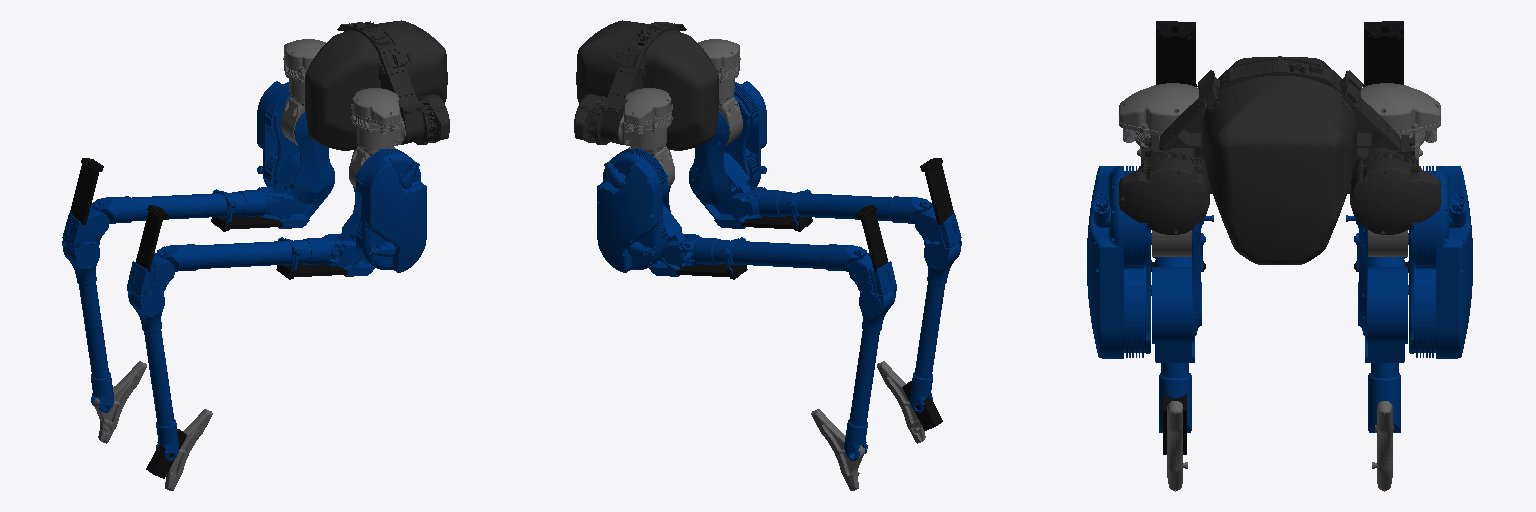
--- Render facts (derived) ---
The picture shows the robot from 3 angles, left to right: view 1: azimuth 30°, elevation 25°; view 2: azimuth 150°, elevation 25°; view 3: azimuth 270°, elevation 25°; orthographic projection.
Robot: cassie — 23 links, 22 joints (16 revolute, 6 fixed); root link pelvis; default pose: joints at zero except 4 at the middle of their limits (knee_left = -1.75, knee_right = -1.75, ankle_joint_left = 1.9, ankle_joint_right = 1.9).
Links seen in each view (by area): view 1: pelvis, thigh_right, shin_right, thigh_left, shin_left, tarsus_left, tarsus_right, yaw_right, toe_right, yaw_left, toe_left, knee_left (+6 smaller); view 2: pelvis, thigh_left, shin_left, thigh_right, shin_right, tarsus_left, tarsus_right, yaw_left, toe_right, yaw_right, knee_right, toe_left (+6 smaller); view 3: pelvis, thigh_left, thigh_right, knee_left, knee_right, yaw_right, yaw_left, heel_spring_left, heel_spring_right, toe_right, tarsus_left, toe_left (+5 smaller).
Link boxes in pixels (box(x1,y1,x2,y2)): pelvis: box(305, 20, 449, 150); thigh_right: box(353, 149, 426, 272); shin_right: box(151, 234, 360, 274); thigh_left: box(257, 81, 334, 203); shin_left: box(89, 187, 296, 225); tarsus_left: box(62, 205, 113, 412); tarsus_right: box(127, 253, 178, 460); yaw_right: box(351, 88, 405, 148); toe_right: box(146, 409, 212, 490); yaw_left: box(283, 39, 325, 99); toe_left: box(93, 361, 146, 443); knee_left: box(272, 152, 334, 228); pelvis: box(574, 20, 718, 150); thigh_left: box(597, 149, 670, 272); shin_left: box(663, 234, 872, 274); thigh_right: box(689, 81, 766, 203); shin_right: box(727, 187, 934, 225); tarsus_left: box(844, 253, 896, 460); tarsus_right: box(910, 205, 961, 412); yaw_left: box(618, 88, 672, 148); toe_right: box(877, 361, 942, 443); yaw_right: box(698, 39, 740, 99); knee_right: box(689, 152, 751, 228); toe_left: box(811, 409, 865, 490); pelvis: box(1119, 56, 1440, 264); thigh_left: box(1346, 166, 1472, 358); thigh_right: box(1087, 166, 1213, 358); knee_left: box(1365, 267, 1407, 362); knee_right: box(1152, 267, 1194, 362); yaw_right: box(1119, 83, 1198, 168); yaw_left: box(1361, 83, 1440, 168); heel_spring_left: box(1363, 21, 1403, 86); heel_spring_right: box(1156, 21, 1196, 86); toe_right: box(1163, 392, 1187, 491); tarsus_left: box(1368, 363, 1400, 432); toe_left: box(1372, 401, 1393, 491).
Bounding box of the posed robot: 0.7712 × 0.4825 × 0.8448 m (x, y, z).
19 mesh visuals loaded from 17 distinct referenced files (17 OBJ).

robot.urdf — cassie:
<robot name="cassie">

  <link name="pelvis">
    <inertial>
      <origin
        xyz=".05066 0.000346 .02841"
        rpy="0 0 0" />
      <mass value="10.33" />
      <inertia
        ixx=".094158"
        ixy=".0001685"
        ixz=".015026"
        iyy=".084066"
        iyz=".0005156"
        izz=".112770" />
    </inertial>
    <visual>
      <origin
        xyz="0 0 0"
        rpy="0 0 0" />
      <geometry>
        <mesh filename="meshes/pelvis.obj" />
      </geometry>
      <material name="">
        <color
          rgba="0.2 0.2 0.2 1.0" />
      </material>
    </visual>
    <!--
    <visual name="pelvis_collision">
      <geometry>
        <sphere radius="0.2"/>
      </geometry>
      <origin xyz="0.05 0 0" rpy="0 0 0" />
      <material name="">
        <color rgba="0.1 0.1 0.1 1.0" />
      </material>
    </visual>
    -->

    <collision>
      <geometry>
        <sphere radius="0.2"/>
      </geometry>
      <origin xyz="0.05 0 0" rpy="0 0 0" />
    </collision>
  </link>

  <link name="yaw_left">
    <inertial>
      <origin
        xyz=".0257 0.0001 .0179"
        rpy="0 -1.570796 0" />
      <mass value="1.82" />
      <inertia
        ixx=".002722"
        ixy=".000000703"
        ixz=".00000153"
        iyy=".005586"
        iyz=".00000261"
        izz=".004638" />
    </inertial>
    <visual>
      <origin
        xyz="0 0 -0.07"
        rpy="0 -1.570796 0" />
      <geometry>
        <mesh filename="meshes/agility/left_yaw.obj" />
      </geometry>
      <material name="">
        <color rgba="0.4 0.4 0.4 1" />
      </material>
    </visual>
  </link>

  <link name="yaw_right">
    <inertial>
      <origin
        xyz=".0257 -0.0001 .0179"
        rpy="0 -1.570796 0" />
      <mass value="1.82" />
      <inertia
        ixx=".002722"
        ixy="-.000000703"
        ixz=".00000153"
        iyy=".005586"
        iyz="-.00000261"
        izz=".004638" />
    </inertial>
    <visual>
      <origin
        xyz="0 0 -0.07"
        rpy="0 -1.570796 0" />
      <geometry>
        <mesh filename="meshes/agility/right_yaw.obj" />
      </geometry>
      <material name="">
        <color rgba="0.4 0.4 0.4 1" />
      </material>
    </visual>
  </link>

  <link name="hip_left">
    <inertial>
      <origin
        xyz="-.05572 0 0.00001"
        rpy="-1.570796 1.570796 0" />
      <mass value="1.171" />
      <inertia
        ixx=".000842"
        ixy=".0000002462"
        ixz="-.0000006251"
        iyy=".006076"
        iyz="-.00000004"
        izz=".006436" />
    </inertial>
    <visual>
      <origin
        xyz="0 0 -0.09"
        rpy="-1.570796 1.570796 0" />
      <geometry>
        <mesh filename="meshes/agility/left_hip.obj" />
      </geometry>
      <material name="">
        <color rgba="0.4 0.4 0.4 1" />
      </material>
    </visual>
  </link>

  <link name="hip_right">
    <inertial>
      <origin
        xyz="-.05572 0 -0.00001"
        rpy="-1.570796 1.570796 0" />
      <mass value="1.171" />
      <inertia
        ixx=".000842"
        ixy=".0000002462"
        ixz=".0000006251"
        iyy=".006076"
        iyz=".00000004"
        izz=".006436" />
    </inertial>
    <visual>
      <origin
        xyz="0 0 -0.09"
        rpy="-1.570796 1.570796 0" />
      <geometry>
        <mesh filename="meshes/agility/right_hip.obj" />
      </geometry>
      <material name="">
        <color rgba="0.4 0.4 0.4 1" />
      </material>
    </visual>
  </link>

  <link name="thigh_left">
    <inertial>
      <origin
        xyz="0.05946 0.00005 -.03581"
        rpy="0 0 0" />
      <mass value="5.52" />
      <inertia
        ixx=".017969"
        ixy=".0002836"
        ixz="-.011685"
        iyy=".056284"
        iyz="-.00001926"
        izz=".049756" />
    </inertial>
    <visual>
      <origin
        xyz="0 0 0"
        rpy="0 0 0" />
      <geometry>
        <mesh filename="meshes/agility/left_thigh.obj" />
      </geometry>
      <material name="">
        <color rgba="0.024 0.24 0.5 1.0" />
      </material>
    </visual>

    <!--
    <visual name="thigh_left_collision">
      <origin xyz="0.04 0.0 -0.05" rpy="0 0 0"/>
      <geometry>
        <box size="0.15 0.1 0.02"/>
      </geometry>
      <material name="">
        <color rgba="0.1 0.1 0.1 1.0"/>
      </material>
    </visual>

    <collision>
      <origin xyz="0.04 0 -0.05" rpy="0 0 0"/>
      <geometry>
        <box size="0.15 0.1 0.02"/>
      </geometry>
    </collision>
    -->

  </link>

  <link name="thigh_right">
    <inertial>
      <origin
        xyz="0.05946 0.00005 .03581"
        rpy="0 0 0" />
      <mass value="5.52" />
      <inertia
        ixx=".017969"
        ixy=".0002836"
        ixz=".011685"
        iyy=".056284"
        iyz=".00001926"
        izz=".049756" />
    </inertial>
    <visual>
      <origin
        xyz="0 0 0"
        rpy="0 0 0" />
      <geometry>
        <mesh filename="meshes/agility/right_thigh.obj" />
      </geometry>
      <material name="">
        <color rgba="0.024 0.24 0.5 1.0" />
      </material>
    </visual>

    <!-- Actually adding thigh collision seems to screw up something wrt the yaw?
    <visual name="thigh_right_collision">
      <origin xyz="0.04 0.0 0.05" rpy="0 0 0"/>
      <geometry>
        <box size="0.10 0.1 0.02"/>
      </geometry>
      <material name="">
        <color rgba="0.1 0.1 0.1 1.0"/>
      </material>
    </visual>

    <collision>
      <origin xyz="0.04 0 0.05" rpy="0 0 0"/>
      <geometry>
        <box size="0.10 0.1 0.02"/>
      </geometry>
    </collision>
    -->

  </link>

  <link name="knee_left">
    <inertial>
      <origin
        xyz="0.023 0.03207 -0.002181"
        rpy="0 0 0" />
      <mass value="0.7578" />
      <inertia
        ixx=".002159"
        ixy=".0009564"
        ixz=".000002837"
        iyy=".001438"
        iyz=".000000739"
        izz=".003344" />
    </inertial>
    <visual>
      <origin
        xyz="0 0 0"
        rpy="0 0 0" />
      <geometry>
        <mesh filename="meshes/knee-output.obj" />
      </geometry>
      <material name="">
        <color rgba="0.024 0.24 0.5 1.0" />
      </material>
    </visual>
  </link>

  <link name="knee_right">
    <inertial>
      <origin
        xyz="0.023 0.03207 0.002181"
        rpy="0 0 0" />
      <mass value="0.7578" />
      <inertia
        ixx=".002159"
        ixy=".0009564"
        ixz=".000002837"
        iyy=".001438"
        iyz="-.000000739"
        izz=".003344" />
    </inertial>
    <visual>
      <origin
        xyz="0 0 0"
        rpy="0 0 0" />
      <geometry>
        <mesh filename="meshes/knee-output-r.obj" />
      </geometry>
      <material name="">
        <color rgba="0.024 0.24 0.5 1.0" />
      </material>
    </visual>
  </link>

  <link name="shin_left">
    <inertial>
      <origin
        xyz=".18338 0.001169 0.0002123"
        rpy="0 0 0" />
      <mass value="0.5771" />
      <inertia
        ixx=".0003602"
        ixy=".0003335"
        ixz="-.0000001941"
        iyy=".034132"
        iyz=".0000002652"
        izz=".034111" />
    </inertial>
    <visual>
      <origin
        xyz="0 0 0"
        rpy="0 0 0" />
      <geometry>
        <mesh filename="meshes/agility/left_shin.obj" />
      </geometry>
      <material name="">
        <color rgba="0.024 0.24 0.5 1.0" />
      </material>
    </visual>

    <!--
    <visual name="shin_left_collision">
      <origin xyz="0.2 0.0 0.0" rpy="0 1.57 0"/>
      <geometry>
        <cylinder radius="0.015" length="0.4"/>
      </geometry>
      <material name="">
        <color rgba="0.1 0.1 0.1 1.0"/>
      </material>
    </visual>
    -->

    <collision>
      <origin xyz="0.2 0.0 0.0" rpy="0 1.57 0"/>
      <geometry>
        <cylinder radius="0.015" length="0.4"/>
      </geometry>
    </collision>

  </link>

  <link name="shin_right">
    <inertial>
      <origin
        xyz=".18338 0.001169 -0.0002123"
        rpy="0 0 0" />
      <mass value="0.5771" />
      <inertia
        ixx=".0003602"
        ixy=".000334"
        ixz=".0000001941"
        iyy=".034132"
        iyz="-.0000002652"
        izz=".034111" />
    </inertial>

    <visual>
      <origin
        xyz="0 0 0"
        rpy="0 0 0" />
      <geometry>
        <mesh filename="meshes/agility/right_shin.obj" />
      </geometry>
      <material name="">
        <color rgba="0.024 0.24 0.5 1.0" />
      </material>
    </visual>

    <!--
    <visual name="shin_right_collision">
      <origin xyz="0.2 0.0 0.0" rpy="0 1.57 0"/>
      <geometry>
        <cylinder radius="0.015" length="0.4"/>
      </geometry>
      <material name="">
        <color rgba="0.1 0.1 0.1 1.0"/>
      </material>
    </visual>
    -->

    <collision>
      <origin xyz="0.2 0.0 0.0" rpy="0 1.57 0"/>
      <geometry>
        <cylinder radius="0.015" length="0.4"/>
      </geometry>
    </collision>

  </link>

  <link name="knee_spring_left">
    <inertial>
      <origin
        xyz=".08364 0.003427 0.0"
        rpy="0 0 0" />
      <mass value="0.1864" />
      <inertia
        ixx=".0000543"
        ixy=".00004601"
        ixz="0.0"
        iyy=".001712"
        iyz="0.0"
        izz=".001669" />
    </inertial>
    <visual>
      <origin
        xyz="0 0 0"
        rpy="0 0 0" />
      <geometry>
        <mesh filename="meshes/knee-spring.obj" />
      </geometry>
      <material name="">
        <color rgba="0.1 0.1 0.1 1" />
      </material>
    </visual>
  </link>

  <link name="knee_spring_right">
    <inertial>
      <origin
        xyz=".08364 0.003427 0.0"
        rpy="0 0 0" />
      <mass value="0.1864" />
      <inertia
        ixx=".0000543"
        ixy=".00004601"
        ixz="0.0"
        iyy=".001712"
        iyz="0.0"
        izz=".001669" />
    </inertial>
    <visual>
      <origin
        xyz="0 0 0"
        rpy="0 0 0" />
      <geometry>
        <mesh filename="meshes/knee-spring.obj" />
      </geometry>
      <material name="">
        <color rgba="0.1 0.1 0.1 1" />
      </material>
    </visual>
  </link>

  <link name="tarsus_left">
    <inertial>
      <origin
        xyz=".11046 -.03058 -.00131"
        rpy="0 0 0" />
      <mass value="0.782" />
      <inertia
        ixx=".001125"
        ixy="-.002878"
        ixz="-.00006329"
        iyy=".023138"
        iyz=".00003615"
        izz=".023947" />
    </inertial>

    <visual>
      <origin
        xyz="0 0 0"
        rpy="0 0 0" />
      <geometry>
        <mesh filename="meshes/tarsus.obj" />
      </geometry>
      <material name="">
        <color rgba="0.024 0.24 0.5 1.0" />
      </material>
    </visual>

    <!--
    <visual name="tarsus_left_collision">
      <origin xyz="0.2 0.0 0.0" rpy="0 1.57 0"/>
      <geometry>
        <cylinder radius="0.015" length="0.4"/>
      </geometry>
      <material name="">
        <color rgba="0.1 0.1 0.1 1.0"/>
      </material>
    </visual>
    -->

    <collision>
      <origin xyz="0.2 0.0 0.0" rpy="0 1.57 0"/>
      <geometry>
        <cylinder radius="0.015" length="0.4"/>
      </geometry>
    </collision>
  </link>

  <link name="tarsus_right">
    <inertial>
      <origin
        xyz=".11046 -.03058 -.00131"
        rpy="0 0 0" />
      <mass value="0.782" />
      <inertia
        ixx=".001125"
        ixy="-.002878"
        ixz=".00006329"
        iyy=".023138"
        iyz="-.00003615"
        izz=".023947" />
    </inertial>

    <visual>
      <origin
        xyz="0 0 0"
        rpy="0 0 0" />
      <geometry>
        <mesh filename="meshes/tarsus-r.obj" />
      </geometry>
      <material name="">
        <color rgba="0.024 0.24 0.5 1.0" />
      </material>
    </visual>

    <!--
    <visual name="tarsus_right_collision">
      <origin xyz="0.2 0.0 0.0" rpy="0 1.57 0"/>
      <geometry>
        <cylinder radius="0.015" length="0.4"/>
      </geometry>
      <material name="">
        <color rgba="0.1 0.1 0.1 1.0"/>
      </material>
    </visual>
    -->

    <collision>
      <origin xyz="0.2 0.0 0.0" rpy="0 1.57 0"/>
      <geometry>
        <cylinder radius="0.015" length="0.4"/>
      </geometry>
    </collision>

  </link>

  <link name="heel_spring_left">
    <inertial>
      <origin
        xyz="0.08097 0.00223 -0.0000385"
        rpy="0 0 0" />
      <mass value="0.1259" />
      <inertia
        ixx=".00003016"
        ixy=".00001528"
        ixz=".000000575"
        iyy=".001049"
        iyz="-.0000000557"
        izz=".001028" />
    </inertial>
    <visual>
      <origin
        xyz="0 0 0"
        rpy="0 0 0" />
      <geometry>
        <mesh filename="meshes/heel-spring.obj" />
      </geometry>
      <material name="">
        <color rgba="0.1 0.1 0.1 1" />
      </material>
    </visual>
  </link>

  <link name="heel_spring_right">
    <inertial>
      <origin
        xyz="0.08097 0.00223 -0.0000385"
        rpy="0 0 0" />
      <mass value="0.1259" />
      <inertia
        ixx=".00003016"
        ixy=".00001528"
        ixz=".000000575"
        iyy=".001049"
        iyz="-.0000000557"
        izz=".001028" />
    </inertial>
    <visual>
      <origin
        xyz="0 0 0"
        rpy="0 0 0" />
      <geometry>
        <mesh filename="meshes/heel-spring.obj" />
      </geometry>
      <material name="">
        <color rgba="0.1 0.1 0.1 1" />
      </material>
    </visual>
  </link>

  <!--
      **************************************************************
      lumped masses for the foot crank and plantar rods-attaching them
      to the foot at the heel location
      **************************************************************
  -->
  <link name="foot_crank_mass_left">
    <inertial>
      <mass value="0.129"/>
    </inertial>
  </link>

  <link name="foot_crank_mass_right">
    <inertial>
      <mass value="0.129"/>
    </inertial>
  </link>

  <link name="plantar_rod_mass_left">
    <inertial>
      <mass value="0.1186"/>
    </inertial>
  </link>

  <link name="plantar_rod_mass_right">
    <inertial>
      <mass value="0.1186"/>
    </inertial>
  </link>

  <link name="toe_left">
    <inertial>
      <origin
        xyz="0.00474 0.02748 -0.00014"
        rpy="0 0 0" />
      <mass value="0.1498" />
      <inertia
        ixx=".000287"
        ixy="-.00009863"
        ixz="-.000001456"
        iyy=".0001713"
        iyz=".0000001716"
        izz=".0004491" />
    </inertial>

    <visual>
      <origin
        xyz="0 0 0"
        rpy="0 0 0" />
      <geometry>
        <mesh filename="meshes/agility/left_foot.obj" />
      </geometry>
      <material name="">
        <color rgba="0.4 0.4 0.4 1" />
      </material>
    </visual>

    <!-- <mesh filename="meshes/toe.obj" /> -->
    <!--
    <visual name="toe_left_collision">
      <geometry>
        <box size="0.1 0.03 0.03"/>
      </geometry>
      <origin xyz="0.0 0.0 0.0" rpy="0.0 0.0 -0.7"/>
      <material>
        <color rgba="0.1 0.1 0.1 1.0"/>
      </material>
    </visual>
    -->

    <collision>
      <geometry>
        <box size="0.1 0.03 0.03"/>
      </geometry>
      <origin xyz="0.0 0.0 0.0" rpy="0.0 0.0 -0.7"/>
    </collision>

    <visual>
      <geometry>
        <sphere radius="0.001"/>
      </geometry>
      <origin xyz="-0.0457 .112 0" rpy="0 0 0"/>
    </visual>
    <collision>
      <geometry>
        <sphere radius="0.0"/>
      </geometry>
      <origin xyz="-0.0457 .112 0" rpy="0 0 0"/>
    </collision>
    <visual>
      <geometry>
        <sphere radius="0.001"/>
      </geometry>
      <origin xyz="0.088 0 0" rpy="0 0 0"/>
    </visual>
    <collision>
      <geometry>
        <sphere radius="0.0"/>
      </geometry>
      <origin xyz="0.088 0 0" rpy="0 0 0"/>
    </collision>
  </link>

  <link name="toe_right">
    <inertial>
      <origin
        xyz="0.00474 0.02748 0.00014"
        rpy="0 0 0" />
      <mass value="0.1498" />
      <inertia
        ixx=".000287"
        ixy="-.00009863"
        ixz=".000001456"
        iyy=".0001713"
        iyz="-.0000001716"
        izz=".0004491" />
    </inertial>

    <visual>
      <origin
        xyz="0 0 0"
        rpy="0 0 0" />
      <geometry>
        <mesh filename="meshes/agility/right_foot.obj" />
      </geometry>
      <material name="">
        <color rgba="0.4 0.4 0.4 1" />
      </material>
    </visual>
    <!-- <mesh filename="meshes/toe-r.obj" /> -->
    <!--
    <visual>
      <geometry>
        <sphere radius="0.001"/>
      </geometry>
      <origin xyz="-0.0457 .112 0" rpy="0 0 0"/>
    </visual>
    -->
    <collision>
      <geometry>
        <sphere radius="0.0"/>
      </geometry>
      <origin xyz="-0.0457 .112 0" rpy="0 0 0"/>
    </collision>
    <visual>
      <geometry>
        <sphere radius="0.001"/>
      </geometry>
      <origin xyz="0.088 0 0" rpy="0 0 0"/>
    </visual>
    <collision>
      <geometry>
        <sphere radius="0.0"/>
      </geometry>
      <origin xyz="0.088 0 0" rpy="0 0 0"/>
    </collision>

    <visual name="toe_right_collision">
      <geometry>
        <box size="0.1 0.03 0.03"/>
      </geometry>
      <origin xyz="0.0 0.0 0.0" rpy="0.0 0.0 -0.7"/>
      <material>
        <color rgba="0.1 0.1 0.1 1.0"/>
      </material>
    </visual>

    <collision>
      <geometry>
        <box size="0.1 0.03 0.03"/>
      </geometry>
      <origin xyz="0.0 0.0 0.0" rpy="0.0 0.0 -0.7"/>
    </collision>
  </link>



  <!-- JOINTS ||| JOINTS ||| JOINTS ||| JOINTS ||| JOINTS |||-->
  <!-- JOINTS ||| JOINTS ||| JOINTS ||| JOINTS ||| JOINTS |||-->
  <!-- JOINTS ||| JOINTS ||| JOINTS ||| JOINTS ||| JOINTS |||-->
  <!-- JOINTS ||| JOINTS ||| JOINTS ||| JOINTS ||| JOINTS |||-->
  <!-- JOINTS ||| JOINTS ||| JOINTS ||| JOINTS ||| JOINTS |||-->
  <!-- JOINTS ||| JOINTS ||| JOINTS ||| JOINTS ||| JOINTS |||-->
  <!-- JOINTS ||| JOINTS ||| JOINTS ||| JOINTS ||| JOINTS |||-->
  <!-- JOINTS ||| JOINTS ||| JOINTS ||| JOINTS ||| JOINTS |||-->
  <!-- JOINTS ||| JOINTS ||| JOINTS ||| JOINTS ||| JOINTS |||-->
  <!-- JOINTS ||| JOINTS ||| JOINTS ||| JOINTS ||| JOINTS |||-->


  <joint name="hip_roll_left" type="revolute">
    <origin xyz=".021 .135 0" rpy="0 1.570796 0" />
    <parent link="pelvis" />
    <child link="yaw_left" />
    <axis xyz="0 0 1" />
    <limit lower="-0.262" upper="0.393" effort="300"/>
    <dynamics damping="1" />
  </joint>

  <joint name="hip_roll_right" type="revolute">
    <origin xyz=".021 -.135 0" rpy="0 1.570796 0" />
    <parent link="pelvis" />
    <child link="yaw_right" />
    <axis xyz="0 0 1" />
    <limit lower="-0.393" upper="0.262" effort="300"/>
    <dynamics damping="1" />
  </joint>


  <joint name="hip_yaw_left" type="revolute">
    <origin xyz="0 0 -0.07" rpy="0 -1.570796 0" />
    <parent link="yaw_left" />
    <child link="hip_left" />
    <axis xyz="0 0 1" />
    <limit lower="-0.393" upper="0.393" effort="300"/>
    <dynamics damping="1" />
  </joint>

  <joint name="hip_yaw_right" type="revolute">
    <origin xyz="0 0 -0.07" rpy="0 -1.570796 0" />
    <parent link="yaw_right" />
    <child link="hip_right" />
    <axis xyz="0 0 1" />
    <limit lower="-0.393" upper="0.393" effort="300"/>
    <dynamics damping="1" />
  </joint>


  <joint name="hip_pitch_left" type="revolute">
    <origin xyz="0 0 -0.09" rpy="1.570796 1.570796 0" />
    <parent link="hip_left" />
    <child link="thigh_left" />
    <axis xyz="0 0 1" />
    <limit lower="-0.873" upper="1.396" effort="300"/>
    <dynamics damping="1" />
  </joint>

  <joint name="hip_pitch_right" type="revolute">
    <origin xyz="0 0 -0.09" rpy="1.570796 1.570796 0" />
    <parent link="hip_right" />
    <child link="thigh_right" />
    <axis xyz="0 0 1" />
    <limit lower="-0.873" upper="1.396" effort="300"/>
    <dynamics damping="1" />
  </joint>

  <joint name="knee_left" type="revolute">
    <origin xyz="0.12 0 0.0045" rpy="0 0 0" />
    <parent link="thigh_left" />
    <child link="knee_left" />
    <axis xyz="0 0 1" />
    <limit lower="-2.862" upper="-0.646" effort="300"/>
    <dynamics damping="1" />
  </joint>

  <joint name="knee_right" type="revolute">
    <origin xyz="0.12 0 -0.0045" rpy="0 0 0" />
    <parent link="thigh_right" />
    <child link="knee_right" />
    <axis xyz="0 0 1" />
    <limit lower="-2.862" upper="-0.646" effort="300"/>
    <dynamics damping="1" />
  </joint>


  <joint name="foot_crank_mass_left" type="fixed">
    <origin xyz=".055 0 .00776"/>
    <parent link="toe_left" />
    <child link="foot_crank_mass_left" />
  </joint>

  <joint name="foot_crank_mass_right" type="fixed">
    <origin xyz=".055 0 -.00776"/>
    <parent link="toe_right" />
    <child link="foot_crank_mass_right" />
  </joint>

  <joint name="plantar_rod_mass_left" type="fixed">
    <origin xyz=".055 0 .00776"/>
    <parent link="toe_left" />
    <child link="plantar_rod_mass_left" />
  </joint>

  <joint name="plantar_rod_mass_right" type="fixed">
    <origin xyz=".055 0 -.00776"/>
    <parent link="toe_right" />
    <child link="plantar_rod_mass_right" />
  </joint>

  <joint name="knee_joint_left" type="revolute">
    <origin xyz="0.06068 0.04741 0" rpy="0 0 0" />
    <parent link="knee_left" />
    <child link="shin_left" />
    <axis xyz="0 0 1" />
    <limit lower="-.35" upper="0.35"/>
    <dynamics damping=".1" />
  </joint>

  <joint name="knee_joint_right" type="revolute">
    <origin xyz="0.06068 0.04741 0" rpy="0 0 0" />
    <parent link="knee_right" />
    <child link="shin_right" />
    <axis xyz="0 0 1" />
    <limit lower="-.35" upper="0.35"/>
    <dynamics damping=".1" />
  </joint>


  <joint name="knee_spring_left_fixed" type="fixed">
    <origin xyz="0.06068 0.08241 0" rpy="0 0 0" />
    <parent link="knee_left" />
    <child link="knee_spring_left" />
  </joint>

  <joint name="knee_spring_right_fixed" type="fixed">
    <origin xyz="0.06068 0.08241 0" rpy="0 0 0" />
    <parent link="knee_right" />
    <child link="knee_spring_right" />
  </joint>


  <joint name="ankle_joint_left" type="revolute">
    <origin xyz="0.43476 0.02 0" rpy="0 0 0" />
    <parent link="shin_left" />
    <child link="tarsus_left" />
    <axis xyz="0 0 1" />
    <limit lower=".8" upper="3"/>
    <dynamics damping="0.1" />
  </joint>

  <joint name="ankle_joint_right" type="revolute">
    <origin xyz="0.43476 0.02 0" rpy="0 0 0" />
    <parent link="shin_right" />
    <child link="tarsus_right" />
    <axis xyz="0 0 1" />
    <limit lower=".8" upper="3"/>
    <dynamics damping="0.1" />
  </joint>

  <!-- rpy="-0.0689 -0.0370 2.7208"-->
  <joint name="ankle_spring_joint_left" type="revolute">
    <origin xyz="-.01269 -.03059 .00092" rpy="0.0780 0.00549 2.7192" />
    <parent link="tarsus_left" />
    <child link="heel_spring_left" />
    <limit lower="-1" upper="0.5"/>
    <axis xyz="0 0 1" />
    <dynamics damping="10" /> <!-- made up value -->
  </joint>

  <!-- rpy="0.0734 0.0269 2.7201"-->
  <joint name="ankle_spring_joint_right" type="revolute">
    <origin xyz="-.01269 -.03059 -.00092" rpy="-0.0780 -0.00549 2.7192" />
    <parent link="tarsus_right" />
    <child link="heel_spring_right" />
    <limit lower="-1" upper="0.5"/>
    <axis xyz="0 0 1" />
    <dynamics damping="10" /> <!-- made up value -->
  </joint>


  <joint name="toe_left" type="revolute">
    <origin xyz="0.408 -0.040 0" rpy="0 0 0" />
    <parent link="tarsus_left" />
    <child link="toe_left" />
    <axis xyz="0 0 1" />
    <limit lower="-2.8" upper="0" effort="300"/>
    <dynamics damping="1" />
  </joint>

  <joint name="toe_right" type="revolute">
    <origin xyz="0.408 -0.040 0" rpy="0 0 0" />
    <parent link="tarsus_right" />
    <child link="toe_right" />
    <axis xyz="0 0 1" />
    <limit lower="-2.8" upper="0" effort="300"/>
    <dynamics damping="1" />
  </joint>

  <!-- MOTORS ||| MOTORS ||| MOTORS ||| MOTORS ||| MOTORS |||-->
  <!-- MOTORS ||| MOTORS ||| MOTORS ||| MOTORS ||| MOTORS |||-->
  <!-- MOTORS ||| MOTORS ||| MOTORS ||| MOTORS ||| MOTORS |||-->
  <!-- MOTORS ||| MOTORS ||| MOTORS ||| MOTORS ||| MOTORS |||-->
  <!-- MOTORS ||| MOTORS ||| MOTORS ||| MOTORS ||| MOTORS |||-->
  <!-- MOTORS ||| MOTORS ||| MOTORS ||| MOTORS ||| MOTORS |||-->
  <!-- MOTORS ||| MOTORS ||| MOTORS ||| MOTORS ||| MOTORS |||-->
  <!-- MOTORS ||| MOTORS ||| MOTORS ||| MOTORS ||| MOTORS |||-->
  <!-- MOTORS ||| MOTORS ||| MOTORS ||| MOTORS ||| MOTORS |||-->
  <!-- MOTORS ||| MOTORS ||| MOTORS ||| MOTORS ||| MOTORS |||-->

  <transmission name="hip_roll_left_trans" type="transmission_interface/SimpleTransmission">
    <actuator name="hip_roll_left_motor"/>
    <joint name="hip_roll_left"/>
    <mechanicalReduction>1</mechanicalReduction>
  </transmission>

  <transmission name="hip_roll_right_trans" type="transmission_interface/SimpleTransmission">
    <actuator name="hip_roll_right_motor"/>
    <joint name="hip_roll_right"/>
    <mechanicalReduction>1</mechanicalReduction>
  </transmission>

  <transmission name="hip_yaw_left_trans" type="transmission_interface/SimpleTransmission">
    <actuator name="hip_yaw_left_motor"/>
    <joint name="hip_yaw_left"/>
    <mechanicalReduction>1</mechanicalReduction>
  </transmission>

  <transmission name="hip_yaw_right_trans" type="transmission_interface/SimpleTransmission">
    <actuator name="hip_yaw_right_motor"/>
    <joint name="hip_yaw_right"/>
    <mechanicalReduction>1</mechanicalReduction>
  </transmission>

  <transmission name="hip_pitch_left_trans" type="transmission_interface/SimpleTransmission">
    <actuator name="hip_pitch_left_motor"/>
    <joint name="hip_pitch_left"/>
    <mechanicalReduction>1</mechanicalReduction>
  </transmission>

  <transmission name="hip_pitch_right_trans" type="transmission_interface/SimpleTransmission">
    <actuator name="hip_pitch_right_motor"/>
    <joint name="hip_pitch_right"/>
    <mechanicalReduction>1</mechanicalReduction>
  </transmission>

  <transmission name="knee_left_trans" type="transmission_interface/SimpleTransmission">
    <actuator name="knee_left_motor"/>
    <joint name="knee_left"/>
    <mechanicalReduction>1</mechanicalReduction>
  </transmission>

  <transmission name="knee_right_trans" type="transmission_interface/SimpleTransmission">
    <actuator name="knee_right_motor"/>
    <joint name="knee_right"/>
    <mechanicalReduction>1</mechanicalReduction>
  </transmission>

  <transmission name="toe_left_trans" type="transmission_interface/SimpleTransmission">
    <actuator name="toe_left_motor"/>
    <joint name="toe_left"/>
    <mechanicalReduction>1</mechanicalReduction>
  </transmission>

  <transmission name="toe_right_trans" type="transmission_interface/SimpleTransmission">
    <actuator name="toe_right_motor"/>
    <joint name="toe_right"/>
    <mechanicalReduction>1</mechanicalReduction>
  </transmission>

  <!-- SPRINGS ||| SPRINGS ||| SPRINGS ||| SPRINGS ||| SPRINGS |||-->
  <!-- SPRINGS ||| SPRINGS ||| SPRINGS ||| SPRINGS ||| SPRINGS |||-->
  <!-- SPRINGS ||| SPRINGS ||| SPRINGS ||| SPRINGS ||| SPRINGS |||-->
  <!-- SPRINGS ||| SPRINGS ||| SPRINGS ||| SPRINGS ||| SPRINGS |||-->
  <!-- SPRINGS ||| SPRINGS ||| SPRINGS ||| SPRINGS ||| SPRINGS |||-->
  <!-- SPRINGS ||| SPRINGS ||| SPRINGS ||| SPRINGS ||| SPRINGS |||-->
  <!-- SPRINGS ||| SPRINGS ||| SPRINGS ||| SPRINGS ||| SPRINGS |||-->
  <!-- SPRINGS ||| SPRINGS ||| SPRINGS ||| SPRINGS ||| SPRINGS |||-->
  <!-- SPRINGS ||| SPRINGS ||| SPRINGS ||| SPRINGS ||| SPRINGS |||-->
  <!-- SPRINGS ||| SPRINGS ||| SPRINGS ||| SPRINGS ||| SPRINGS |||-->

  <!-- Real springs -->
  <force_element name="left_knee_spring">
    <torsional_spring stiffness="2300" rest_angle="0" >
      <joint name="knee_joint_left" />
    </torsional_spring>
  </force_element>

  <force_element name="left_ankle_spring">
    <torsional_spring stiffness="2000" rest_angle="0">
      <joint name="ankle_spring_joint_left" />
    </torsional_spring>
  </force_element>

  <force_element name="right_knee_spring">
    <torsional_spring stiffness="2300" rest_angle="0" >
      <joint name="knee_joint_right" />
    </torsional_spring>
  </force_element>

  <force_element name="right_ankle_spring">
    <torsional_spring stiffness="2000" rest_angle="0">
      <joint name="ankle_spring_joint_right" />
    </torsional_spring>
  </force_element>

</robot>
